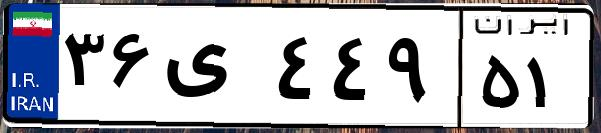1: (525, 38, 570, 115)
3: (57, 26, 110, 100)
4: (270, 28, 330, 110), (330, 28, 385, 110)
5: (475, 38, 525, 113)
6: (110, 28, 158, 98)
9: (385, 28, 445, 110)
ی: (158, 20, 270, 120)
